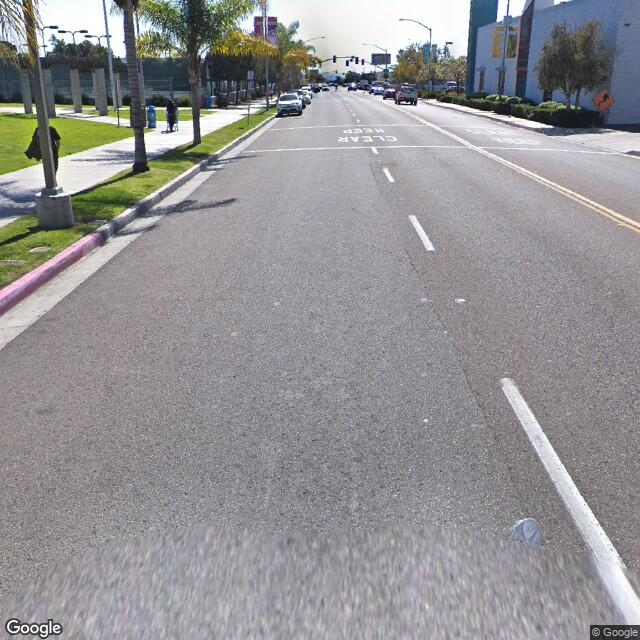road line: (377, 164, 450, 259), (547, 176, 613, 214)
